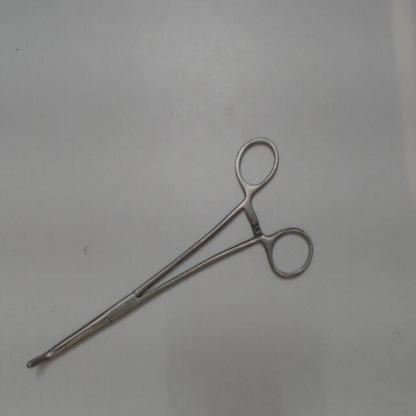Lahey Forceps: (19, 122, 315, 380)
